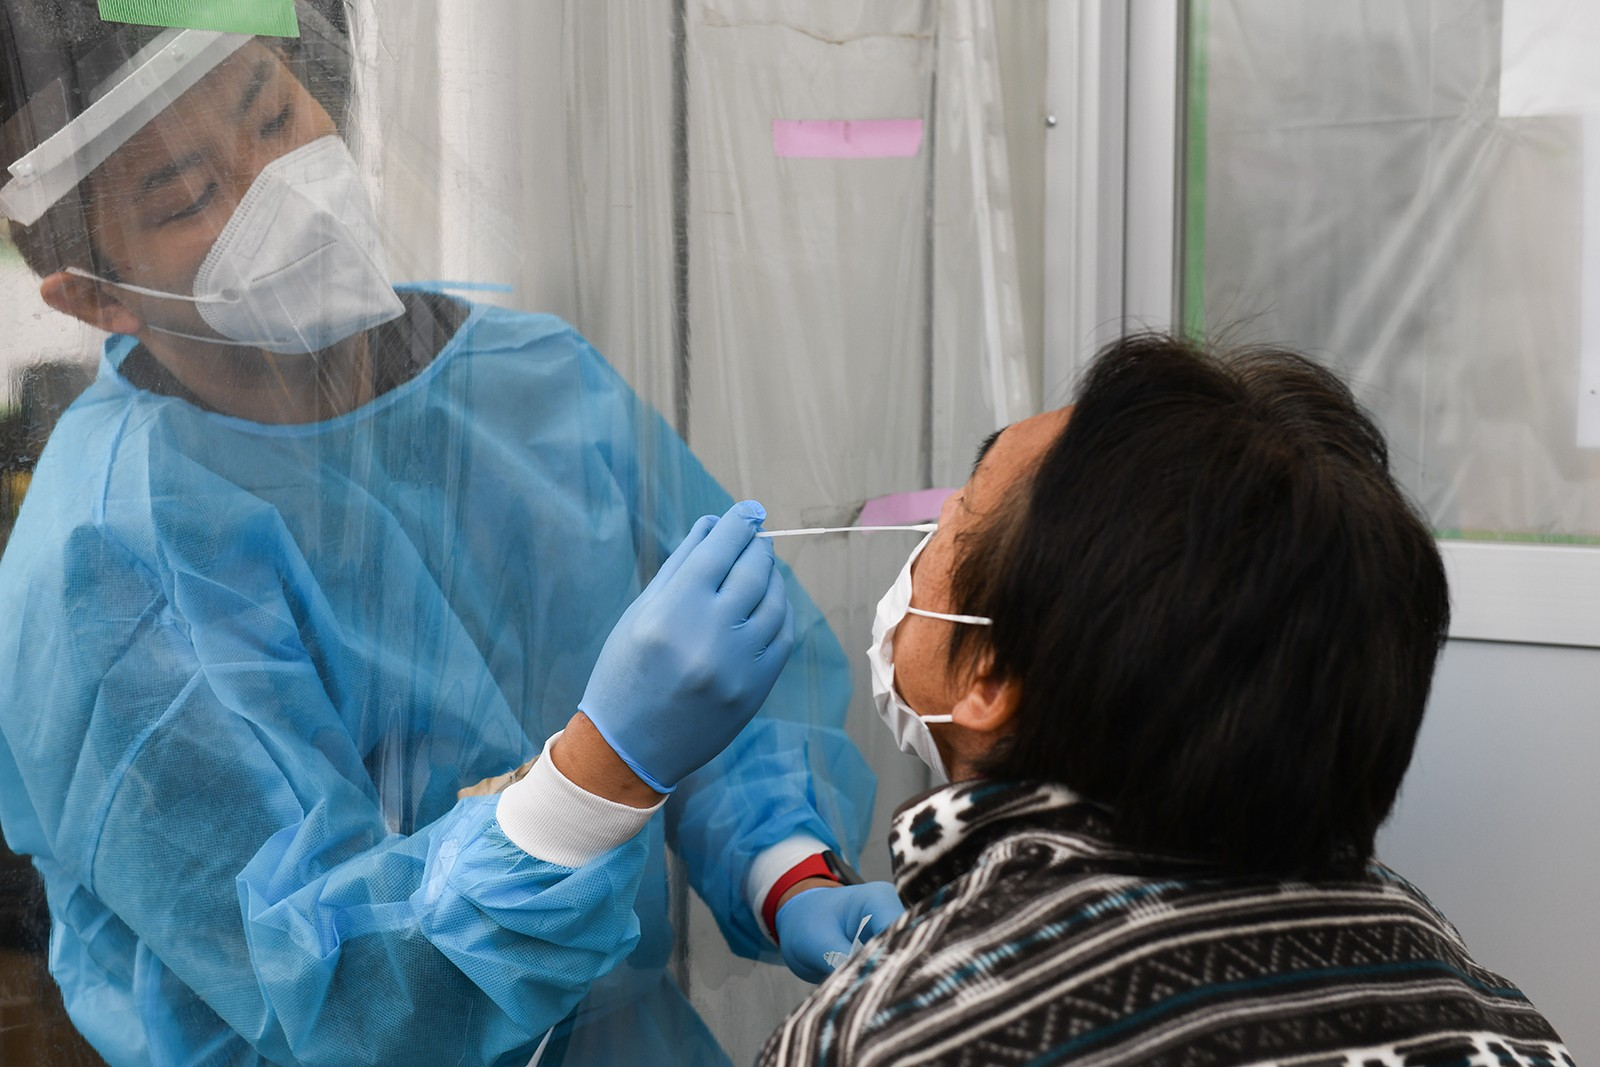Coverall: (1, 288, 886, 1060)
Face_Shield: (6, 12, 420, 352)
Gloves: (567, 488, 813, 798), (760, 848, 912, 989)
with_mask: (132, 86, 402, 350), (858, 434, 999, 779)
